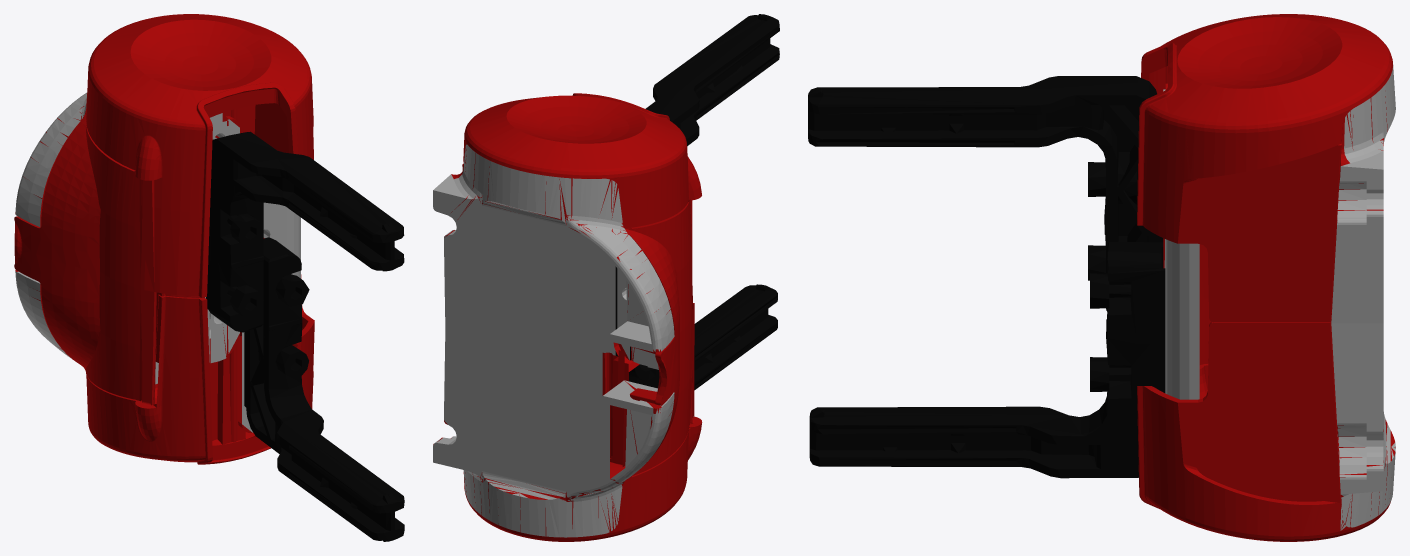
Rendered from electric_gripper_w_fingers.obj.
3 views of the same model, side by side, from view 1: azimuth 30°, elevation 25°; view 2: azimuth 150°, elevation 25°; view 3: azimuth 270°, elevation 25° (orthographic). The views are drawn at different scales.
Visible parts, largest first — view 1: right_gripper_base_00031555, r_gripper_l_finger_00030517.001, r_gripper_r_finger_00030517.000; view 2: right_gripper_base_00031555, r_gripper_l_finger_00030517.001, r_gripper_r_finger_00030517.000; view 3: right_gripper_base_00031555, r_gripper_r_finger_00030517.000, r_gripper_l_finger_00030517.001.
Part boxes in pixels (bbox=[...]): right_gripper_base_00031555: bbox=[14, 14, 314, 464]; r_gripper_l_finger_00030517.001: bbox=[206, 131, 404, 332]; r_gripper_r_finger_00030517.000: bbox=[244, 237, 404, 541]; right_gripper_base_00031555: bbox=[433, 93, 702, 541]; r_gripper_l_finger_00030517.001: bbox=[645, 14, 779, 146]; r_gripper_r_finger_00030517.000: bbox=[615, 266, 777, 390]; right_gripper_base_00031555: bbox=[1137, 14, 1395, 541]; r_gripper_r_finger_00030517.000: bbox=[809, 242, 1165, 478]; r_gripper_l_finger_00030517.001: bbox=[808, 76, 1163, 311].
Bounding box in the file's own units: 0.0659 × 0.1055 × 0.1207.
